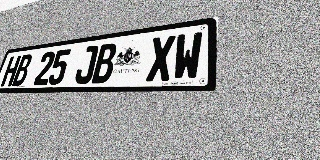2: (33, 51, 56, 85)
5: (47, 49, 71, 85)
B: (91, 43, 118, 83), (11, 54, 33, 86)
H: (0, 55, 21, 86)
J: (73, 45, 99, 84)
W: (172, 31, 203, 81)
X: (146, 35, 176, 82)
